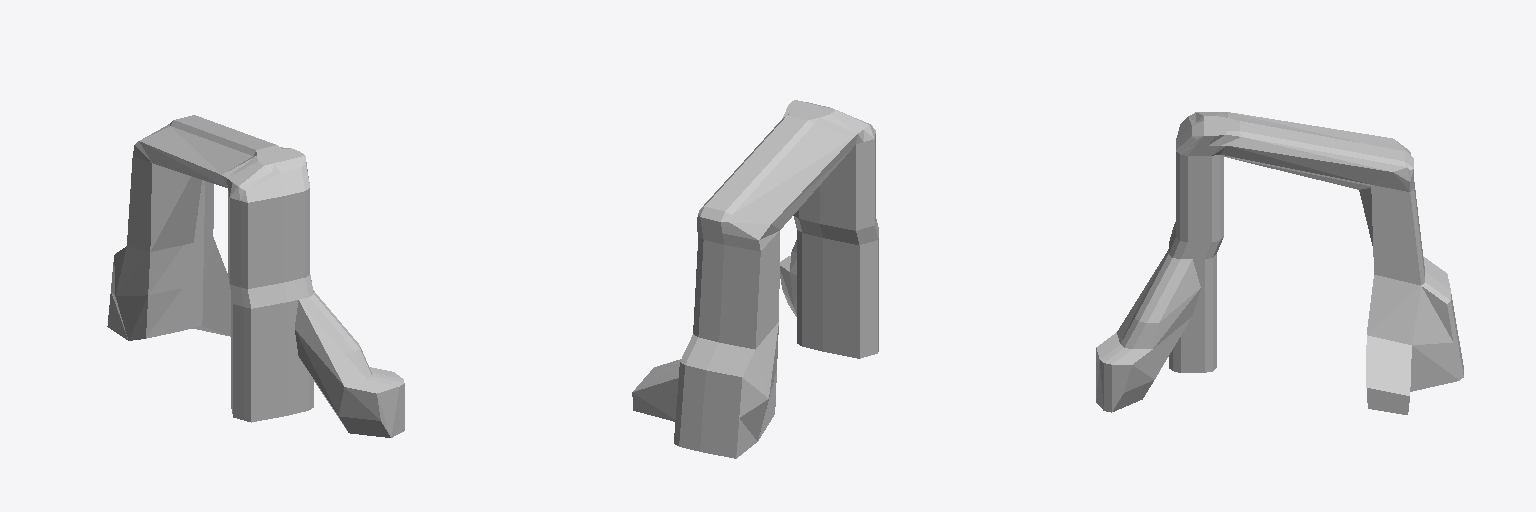
File: rock_arch.obj
The picture shows the model from 3 angles: view 1: azimuth 30°, elevation 25°; view 2: azimuth 150°, elevation 25°; view 3: azimuth 270°, elevation 25°; orthographic projection.
Parts seen in each view (by area): view 1: Cube; view 2: Cube; view 3: Cube.
Boxes of the visible parts, <box> form: Cube: <box>107,115,404,437</box>; Cube: <box>632,100,878,458</box>; Cube: <box>1096,112,1463,414</box>.
Bounding box in the file's own units: 6.82 × 11.57 × 15.36.